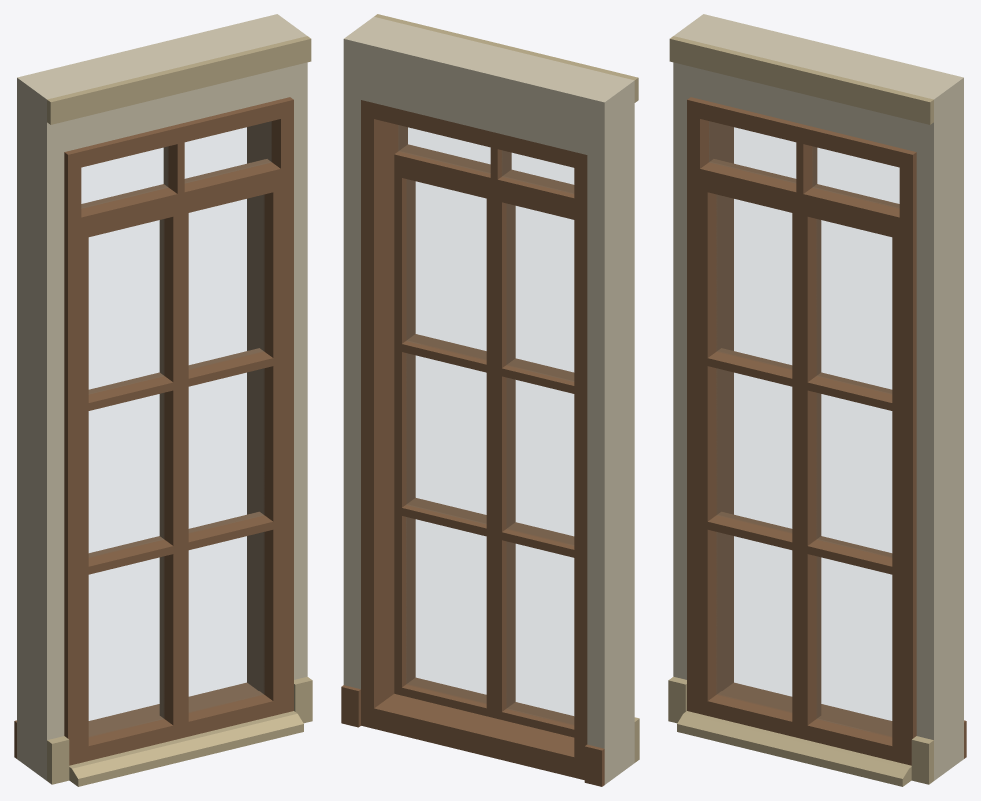
File: rpg-mansion-tall-fixed-french-window-bay-01.glb
3 renders of one model, left to right at view 1: azimuth 30°, elevation 25°; view 2: azimuth 150°, elevation 25°; view 3: azimuth 330°, elevation 25°, orthographic.
Parts seen in each view (by area): view 1: rpg-mansion-tall-fixed-french-window-bay-01; view 2: rpg-mansion-tall-fixed-french-window-bay-01; view 3: rpg-mansion-tall-fixed-french-window-bay-01.
Part boxes in pixels (x1,y1,x2,y2): rpg-mansion-tall-fixed-french-window-bay-01: (14, 14, 312, 786); rpg-mansion-tall-fixed-french-window-bay-01: (341, 14, 639, 786); rpg-mansion-tall-fixed-french-window-bay-01: (668, 14, 966, 786).
Bounding box in the file's own units: 1.2 × 3 × 0.37.
